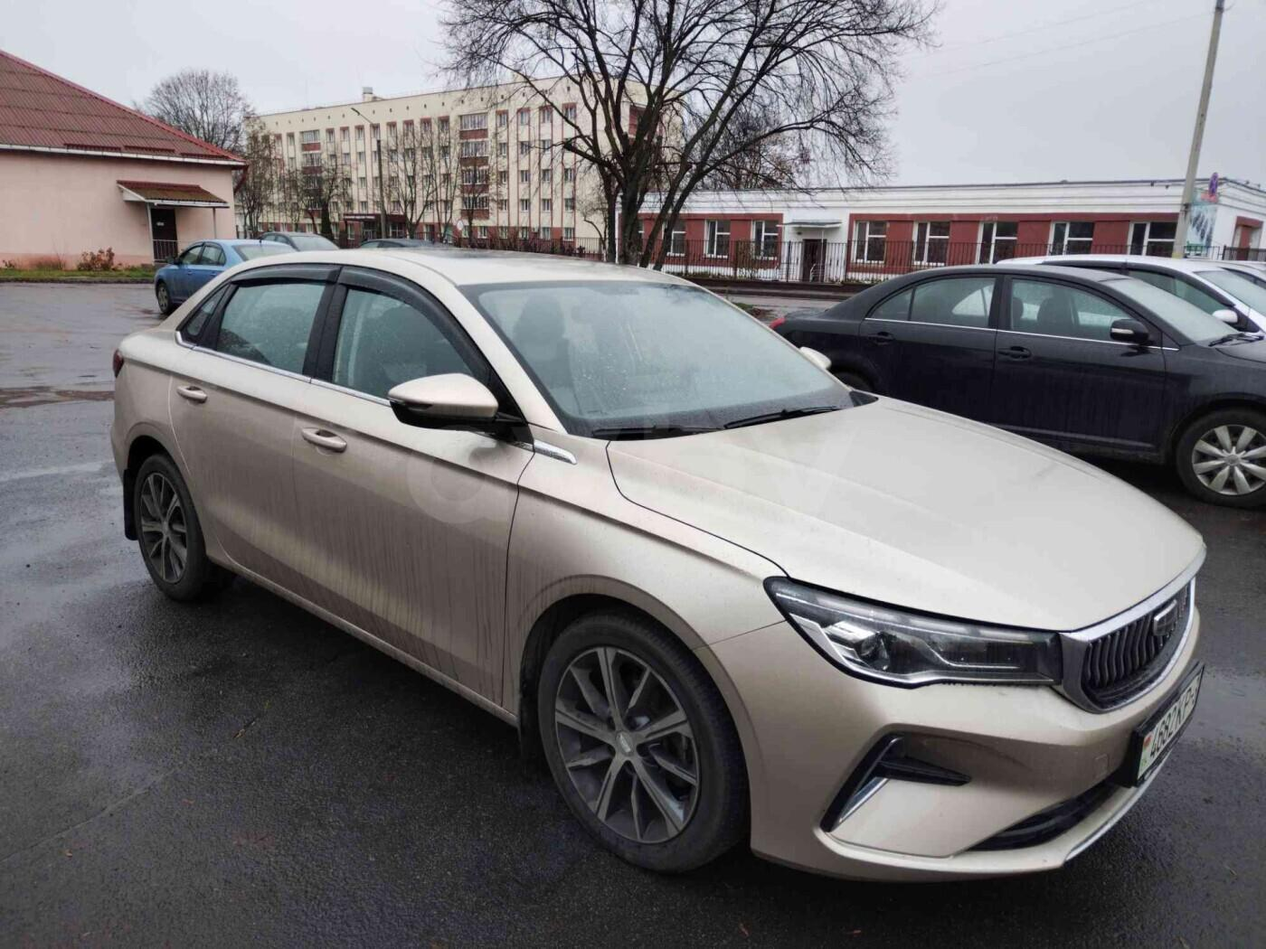Emgrand_2021: (102, 247, 1213, 900)
